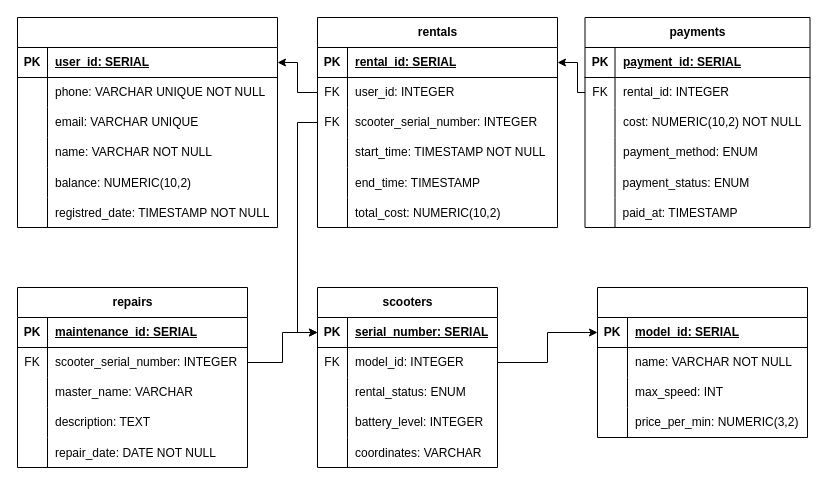
Some shapes in this 828 by 485 pixel diagram are drawn without their labels. The shapes that lost their labels are listed below. From the top down, each one's box as (x1, y1, x2, y2) in pixels, then its label:
(16, 16, 278, 228): users
(596, 286, 808, 438): models
